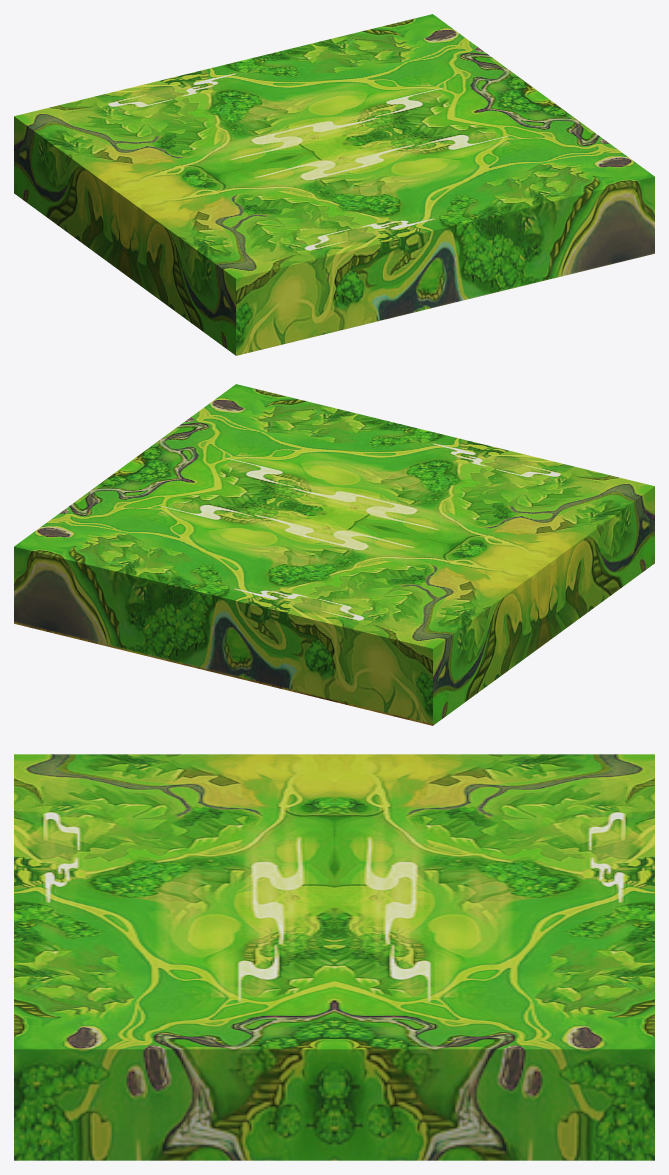
The model's file is map_plain_road28.FBX.
3 renders of one model, top to bottom at view 1: azimuth 30°, elevation 25°; view 2: azimuth 150°, elevation 25°; view 3: azimuth 270°, elevation 25°, orthographic. The views are drawn at different scales.
Parts seen in each view (by area): view 1: Box05; view 2: Box05; view 3: Box05.
Boxes of the visible parts, x1,y1,x2,y2 form: Box05: (14,14,654,355); Box05: (14,384,654,725); Box05: (14,754,654,1160).
Bounding box in the file's own units: 15.82 × 14.53 × 2.78.
